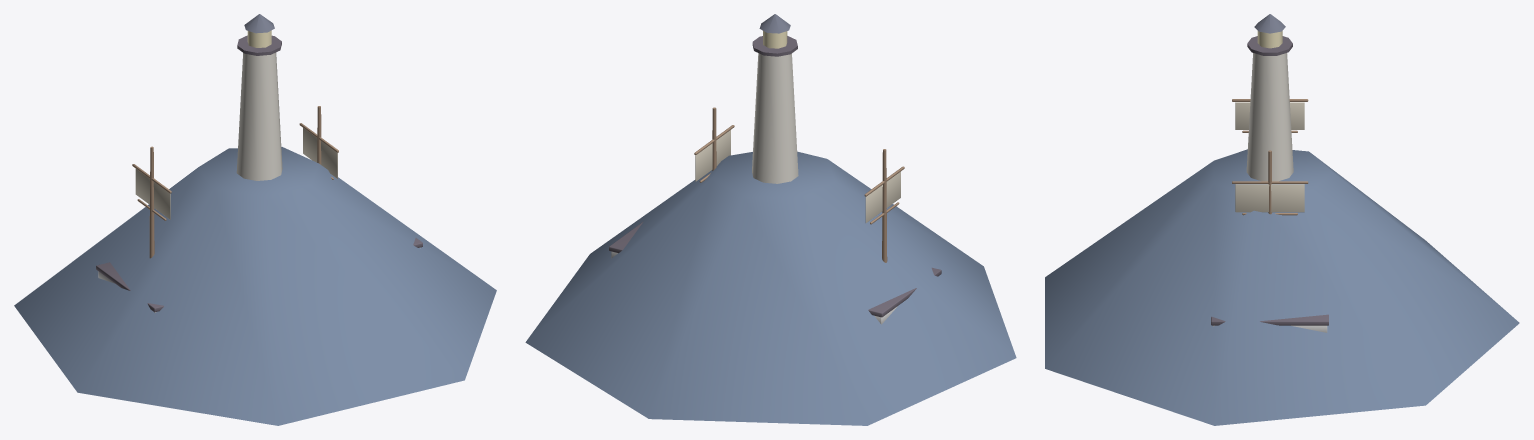
The model's file is models.glb.
3 renders of one model, left to right at view 1: azimuth 30°, elevation 25°; view 2: azimuth 150°, elevation 25°; view 3: azimuth 270°, elevation 25°, orthographic.
Visible parts, largest first — view 1: lighthouse, ship; view 2: lighthouse, ship; view 3: lighthouse, ship.
Part boxes in pixels (bbox=[...]): lighthouse: bbox=[14, 14, 496, 425]; ship: bbox=[96, 106, 422, 312]; lighthouse: bbox=[525, 14, 1016, 425]; ship: bbox=[609, 107, 941, 324]; lighthouse: bbox=[1045, 14, 1519, 425]; ship: bbox=[1211, 99, 1328, 332].
Size of the model in its own units: 70.19 by 53.1 by 68.43.
